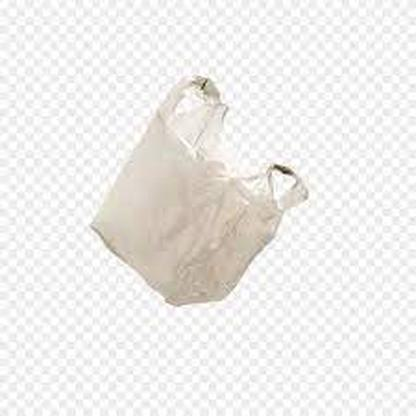plastic bag: (88, 75, 310, 307)
